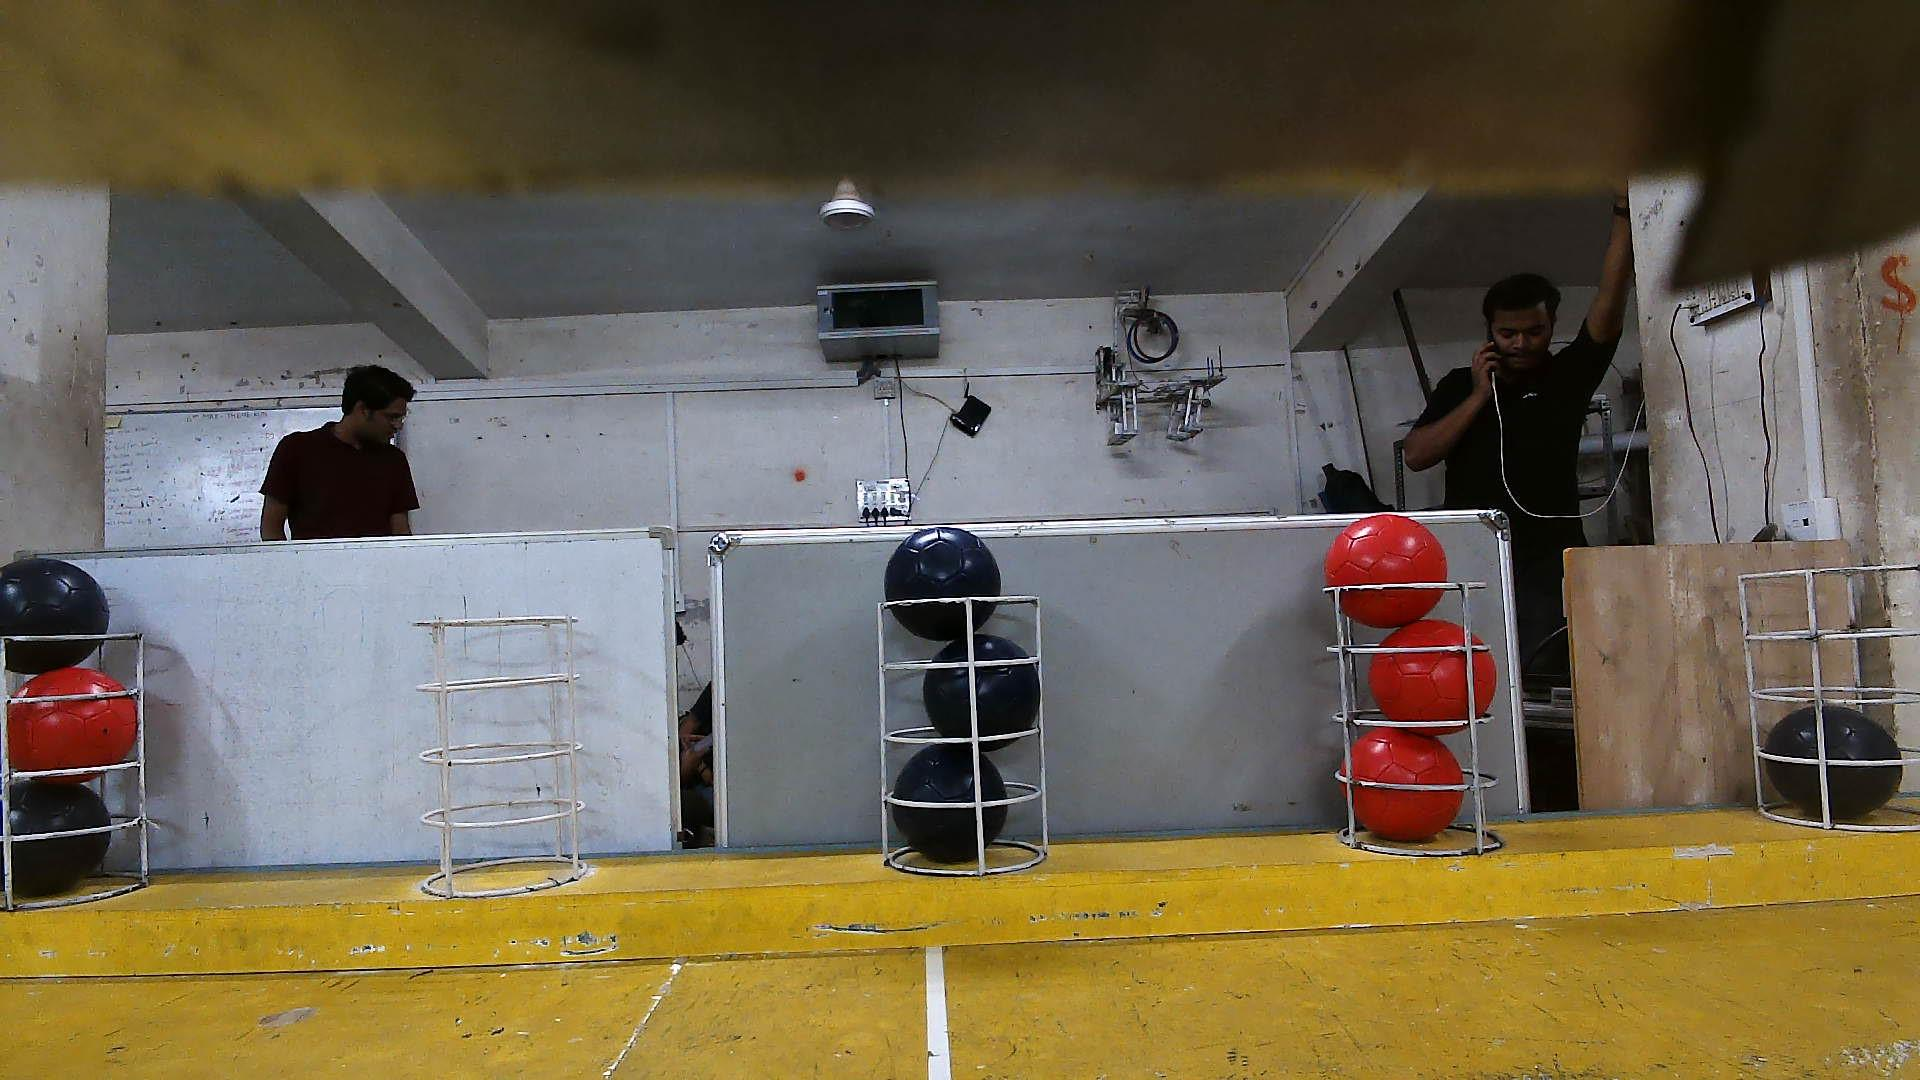dhoka: (1766, 705, 1903, 816), (923, 633, 1040, 749), (884, 526, 1000, 644), (895, 744, 1010, 858), (0, 558, 109, 675), (12, 779, 112, 897)
laale: (8, 667, 136, 783), (1325, 517, 1447, 626), (1346, 729, 1461, 844), (1371, 621, 1494, 727)
